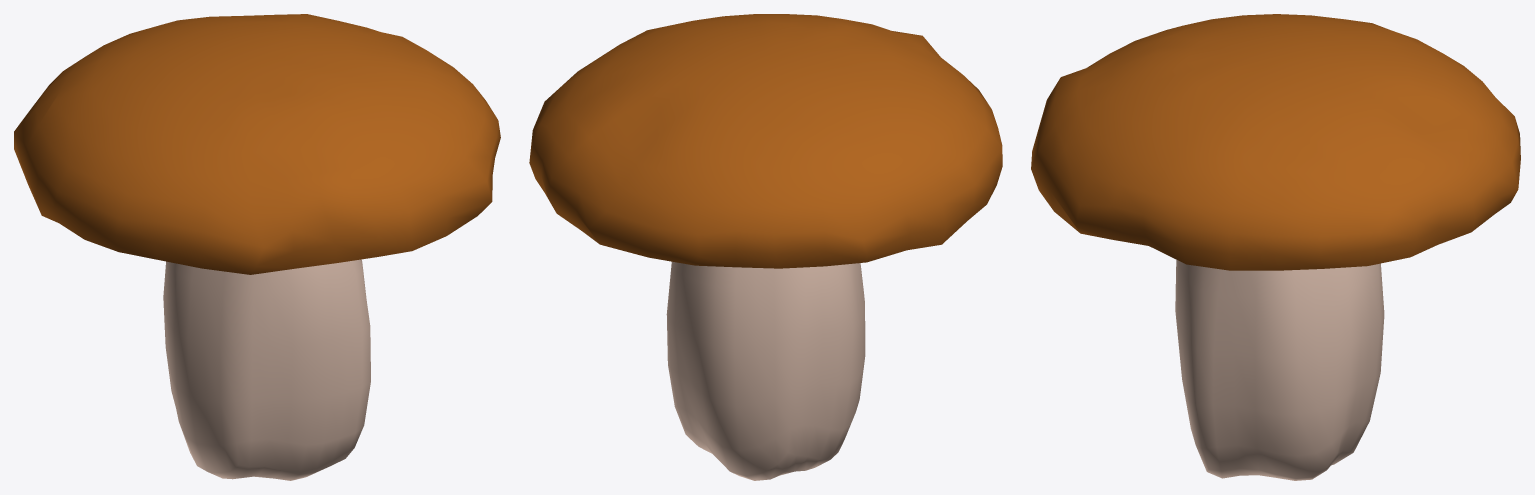
File: BeliyGrib.fbx
3 views of the same model, side by side, from view 1: azimuth 30°, elevation 25°; view 2: azimuth 150°, elevation 25°; view 3: azimuth 270°, elevation 25° (orthographic). The views are drawn at different scales.
Visible parts, largest first — view 1: Sphere, Cube; view 2: Sphere, Cube; view 3: Sphere, Cube.
Boxes of the visible parts, box(x1,y1,x2,y2) form: Sphere: box(14, 14, 500, 274); Cube: box(163, 259, 370, 480); Sphere: box(529, 14, 1002, 268); Cube: box(666, 261, 865, 480); Sphere: box(1031, 14, 1520, 270); Cube: box(1175, 259, 1384, 480).
Size of the model in its own units: 850 by 794 by 860.
